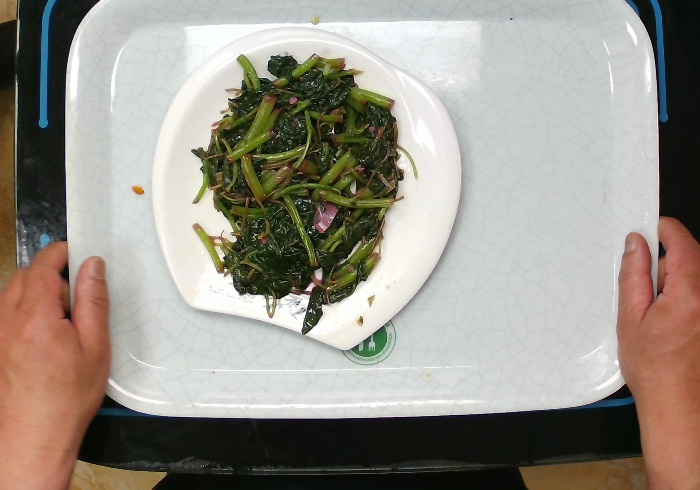JYsf-Mian_Pan: (148, 24, 465, 352)
